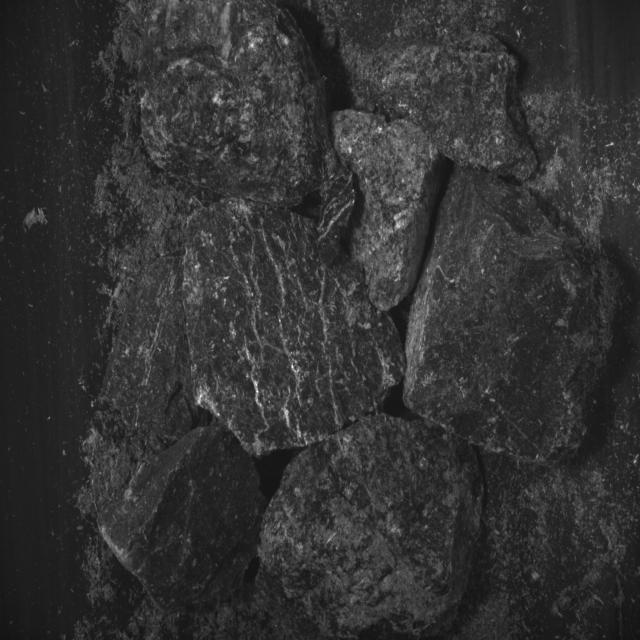Stones: (405, 169, 614, 461), (184, 200, 405, 457), (259, 414, 484, 639), (304, 1, 537, 185), (140, 1, 329, 208), (99, 427, 266, 613), (334, 110, 446, 311)
